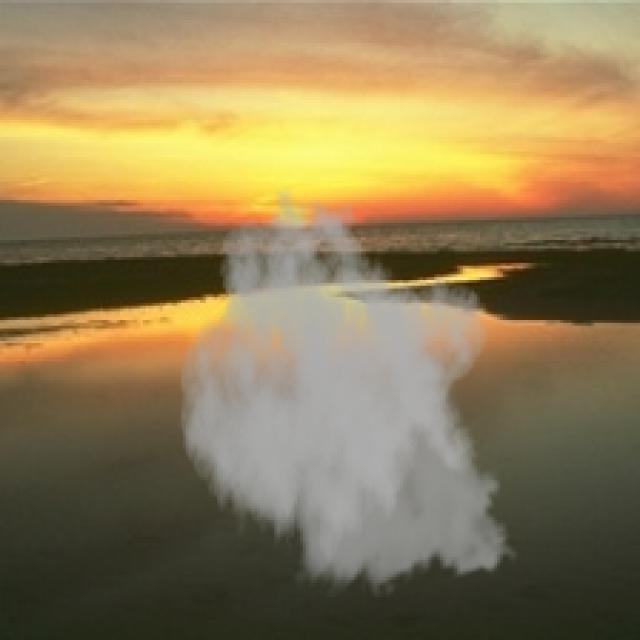Smoke: (177, 185, 523, 600)
